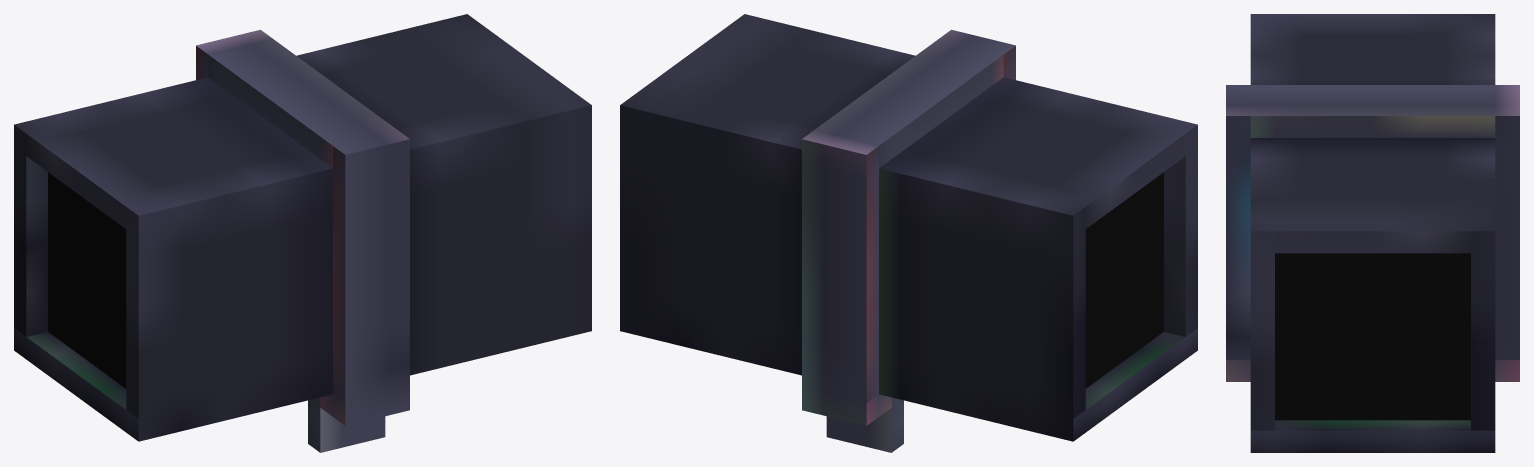
File: Vent_Module_D_00.fbx
3 renders of one model, left to right at view 1: azimuth 30°, elevation 25°; view 2: azimuth 150°, elevation 25°; view 3: azimuth 270°, elevation 25°, orthographic.
Parts seen in each view (by area): view 1: Vent_Module_D_00; view 2: Vent_Module_D_00; view 3: Vent_Module_D_00.
Boxes of the visible parts, x1,y1,x2,y2 form: Vent_Module_D_00: (14,14,591,452); Vent_Module_D_00: (620,14,1197,452); Vent_Module_D_00: (1226,14,1519,452).
Bounding box in the file's own units: 105 × 70 × 60.
